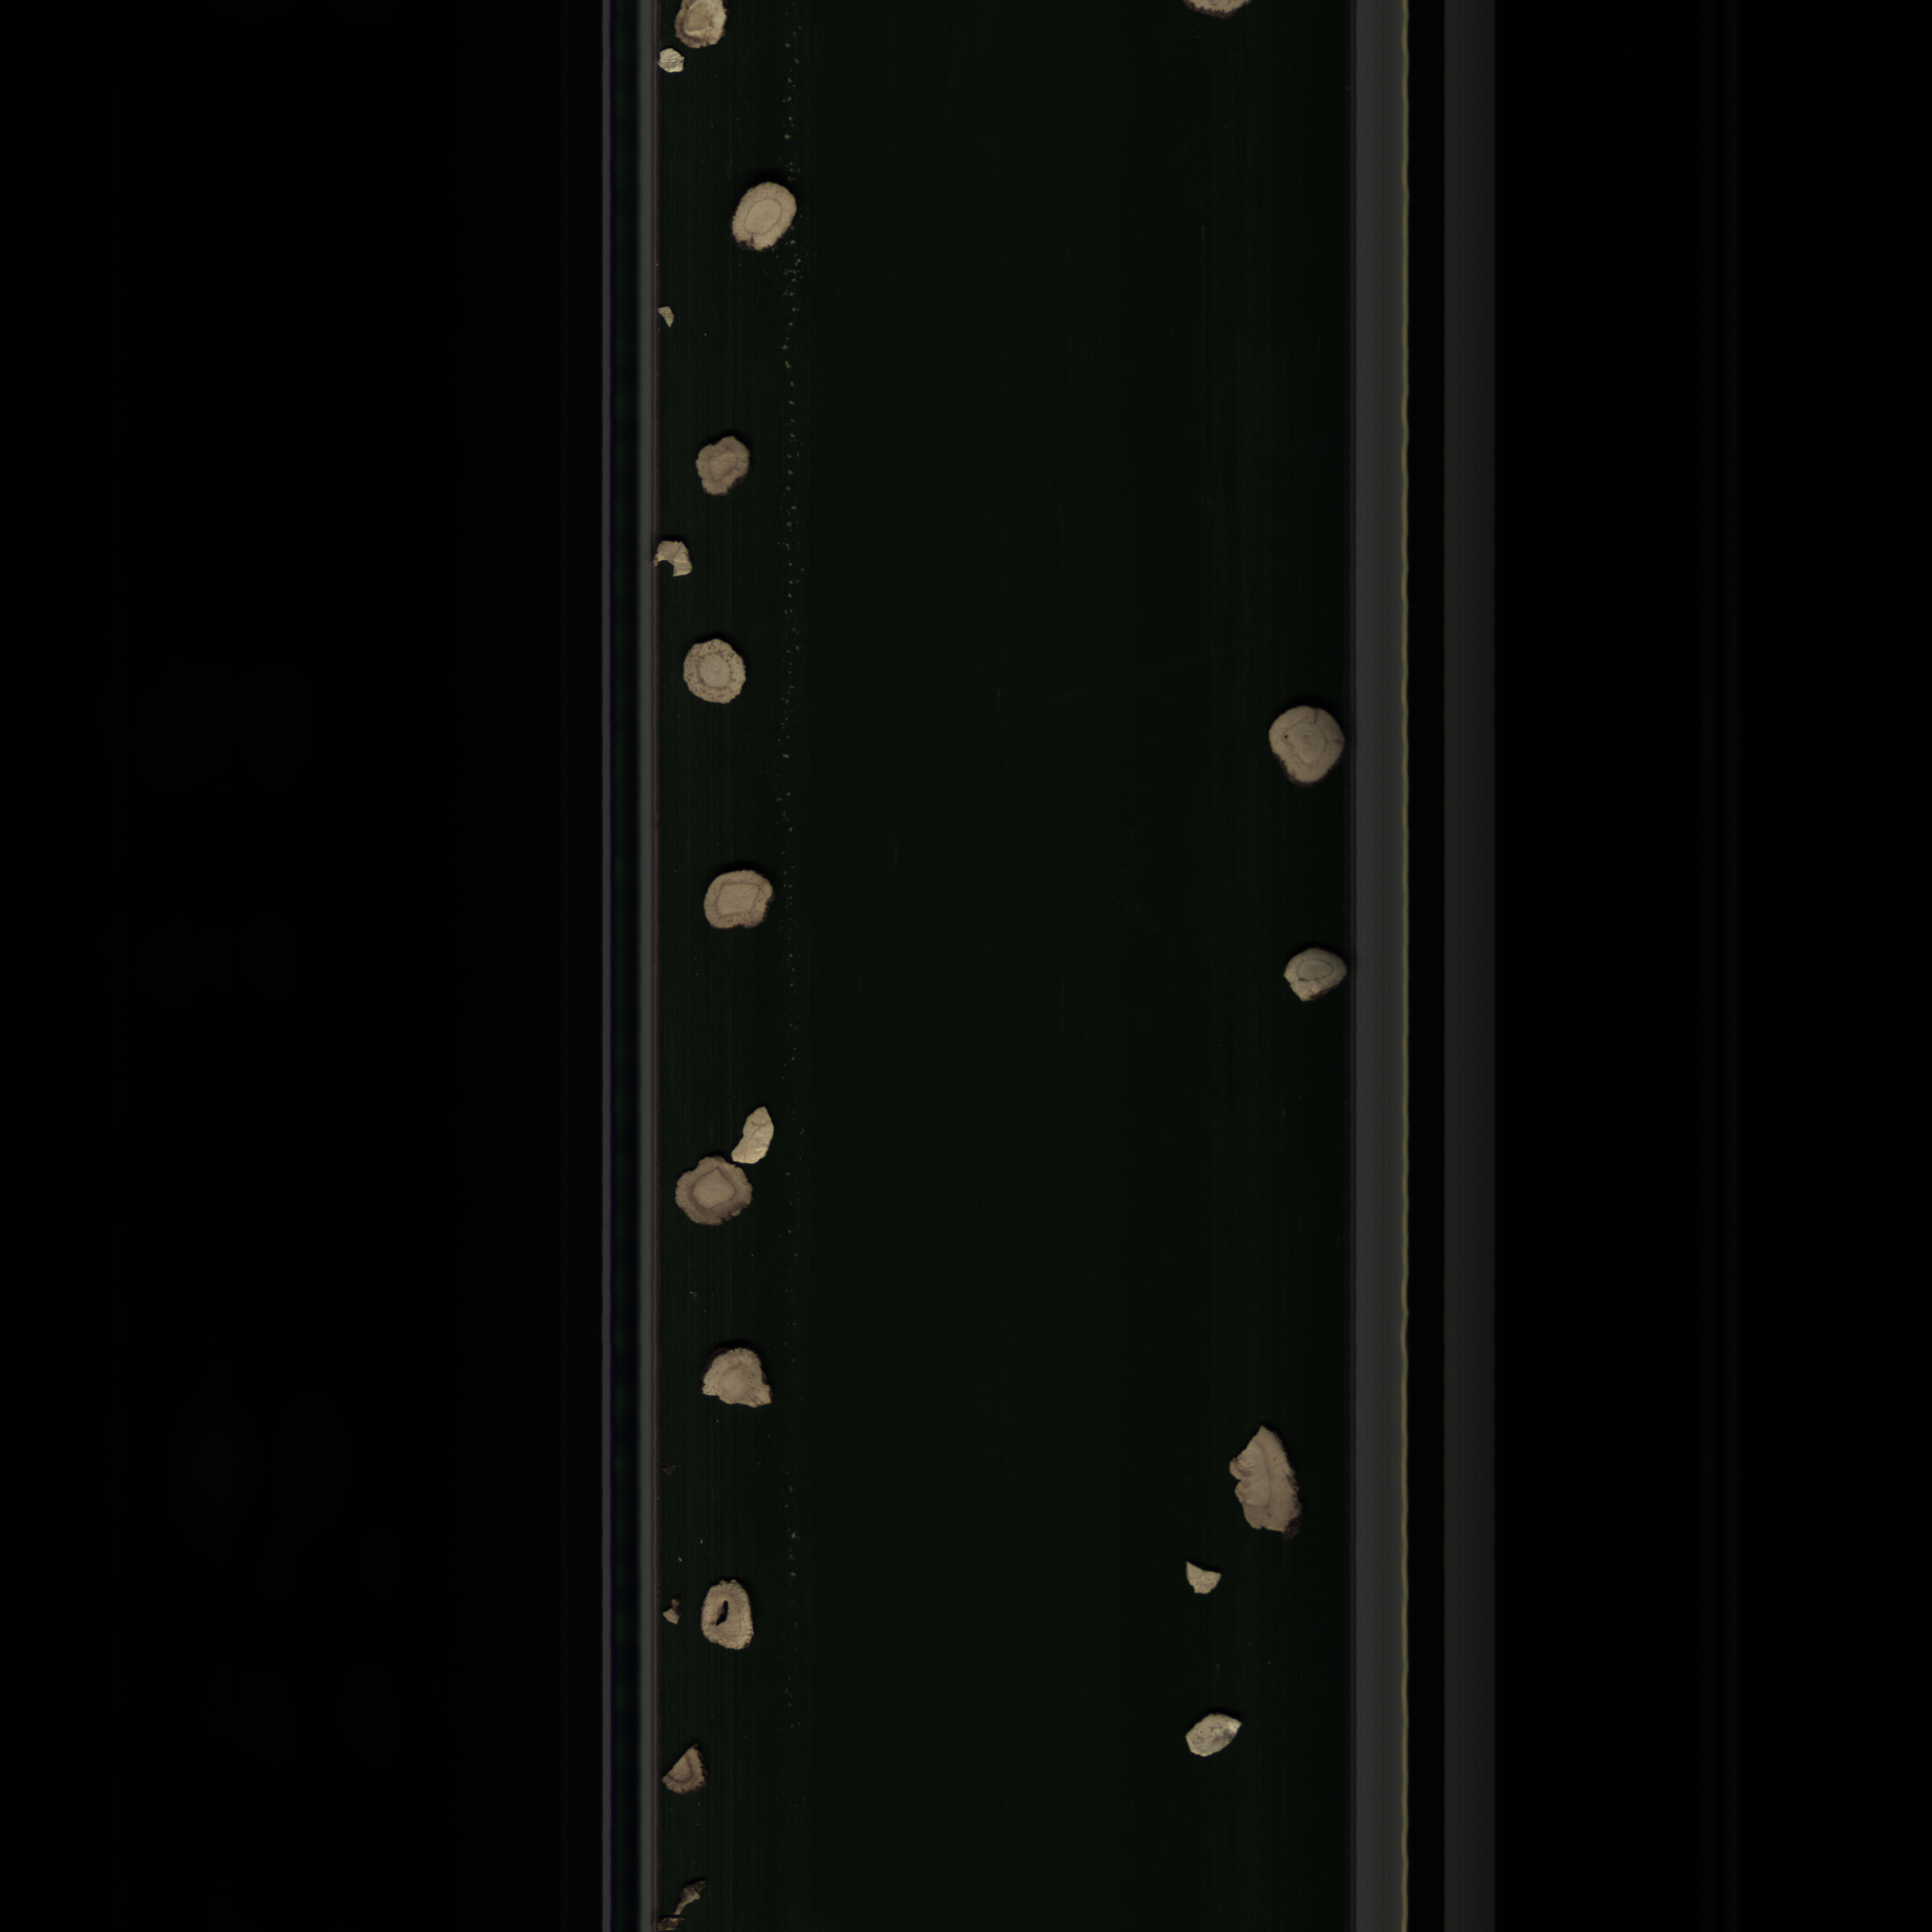debris: (1219, 1422, 1309, 1545), (697, 1343, 784, 1415), (1173, 1709, 1249, 1766), (732, 1097, 787, 1173), (1168, 1552, 1226, 1599), (649, 534, 697, 580), (655, 44, 690, 81), (655, 301, 683, 333)
hole: (697, 1576, 770, 1661)
moldy: (660, 1741, 713, 1798)
